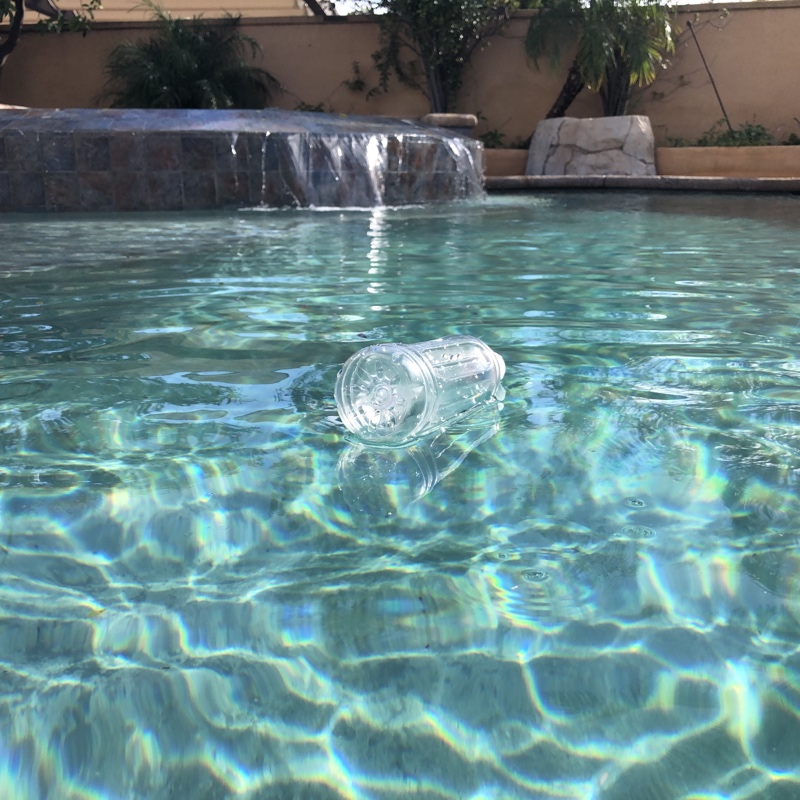Plastic Bottle: (328, 329, 513, 451)
